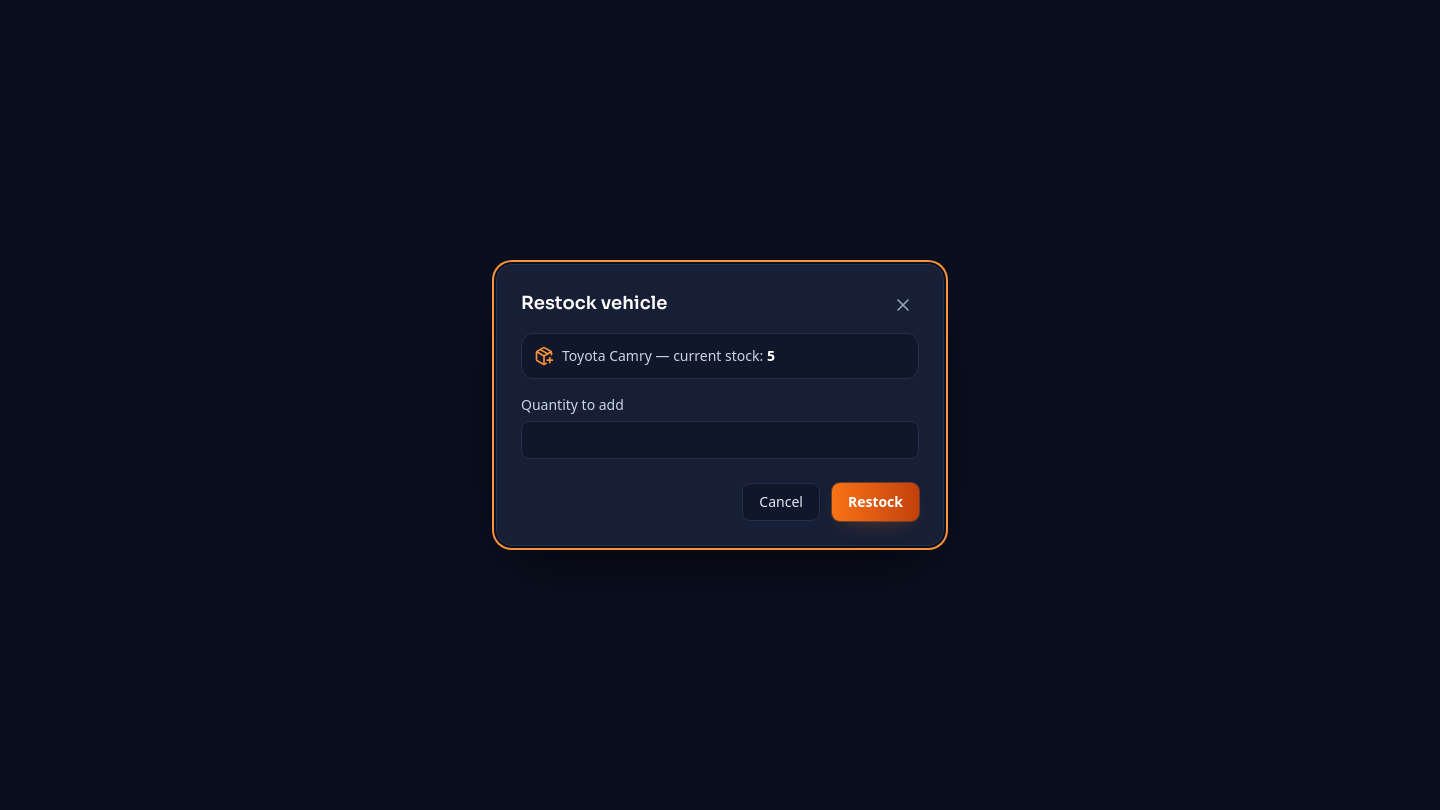
Test: RestockModal › rejects 0 with a validation error and does not submit
Type "0" into the number field labelled "Quantity to add" at (720, 440), box [521,421,919,459]
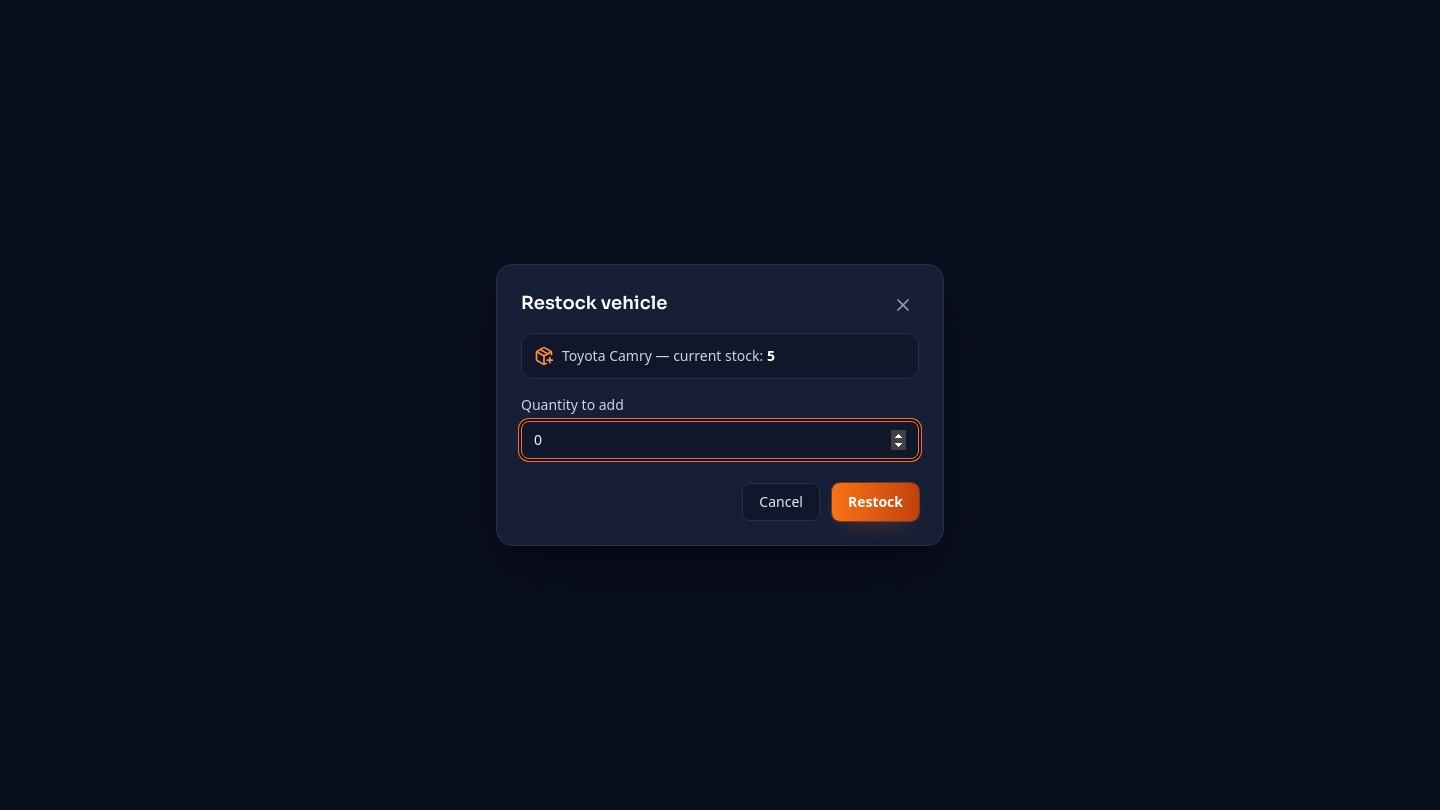
Click the button "Restock" at (875, 502), box [832,483,919,521]
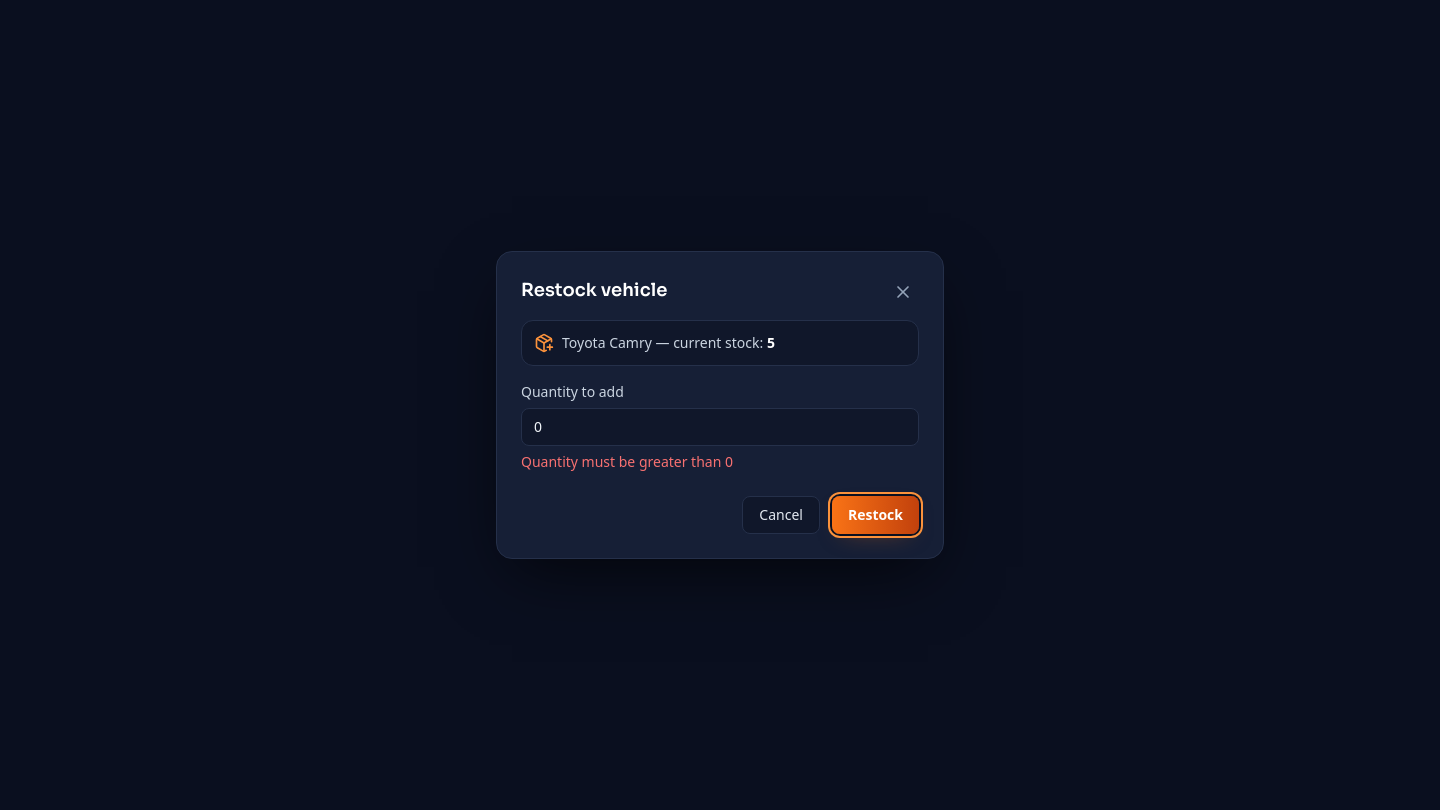
Check: the text "Quantity must be greater than 0" is shown, box [521,452,733,471]
